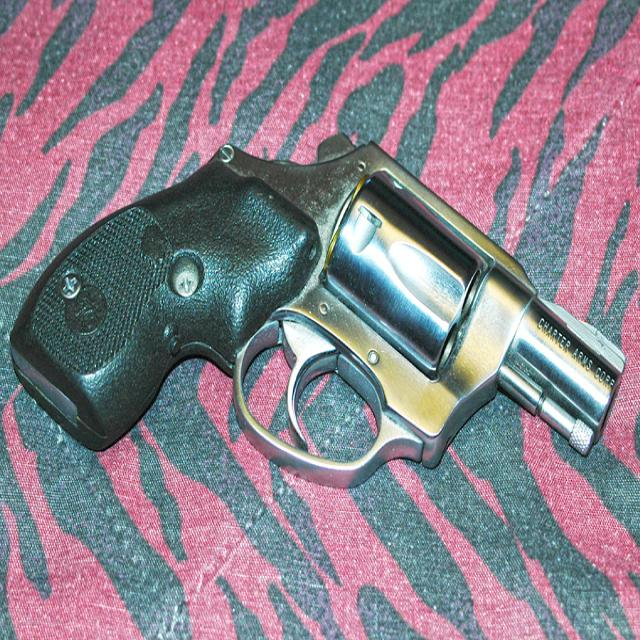Gun: (51, 104, 636, 510)
